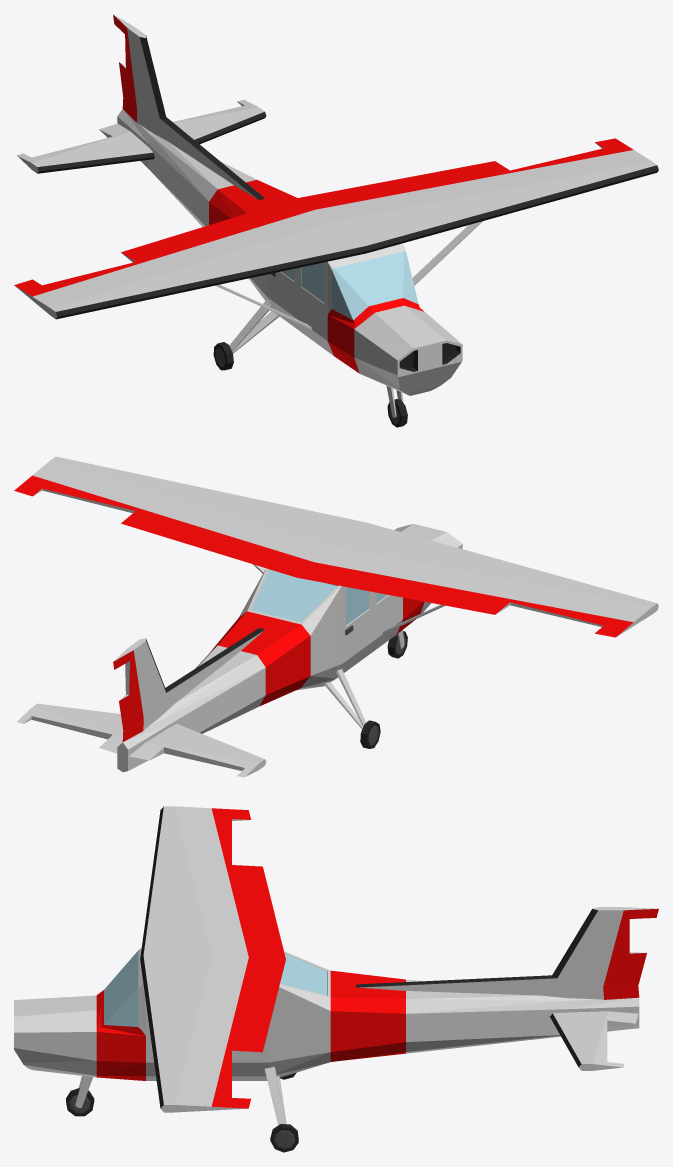
The model's file is Proto_Vehicle_Cessna_Plane_Body_01.fbx.
3 views of the same model, one above another, from view 1: azimuth 30°, elevation 25°; view 2: azimuth 150°, elevation 25°; view 3: azimuth 270°, elevation 25° (orthographic).
Visible parts, largest first — view 1: Proto_Vehicle_Cessna_Plane_Body_01; view 2: Proto_Vehicle_Cessna_Plane_Body_01; view 3: Proto_Vehicle_Cessna_Plane_Body_01.
Part boxes in pixels (<box>): Proto_Vehicle_Cessna_Plane_Body_01: <box>14,14,658,427</box>; Proto_Vehicle_Cessna_Plane_Body_01: <box>14,456,658,777</box>; Proto_Vehicle_Cessna_Plane_Body_01: <box>14,806,658,1152</box>.
Bounding box in the file's own units: 10.46 × 3.37 × 9.55.
